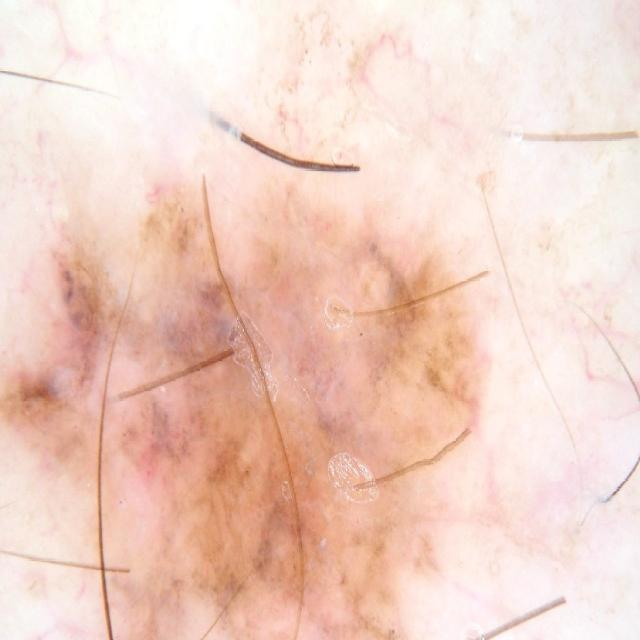Melanoma: (0, 175, 524, 640)
